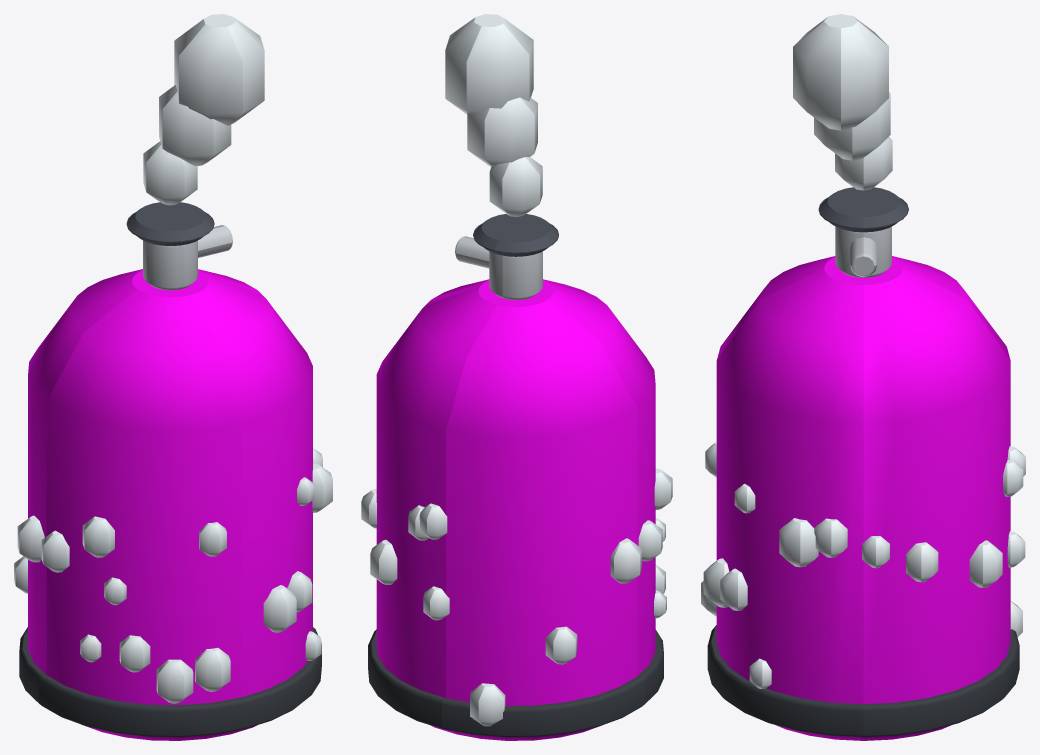
The model's file is objet_azote_liquide.glb.
3 renders of one model, left to right at view 1: azimuth 30°, elevation 25°; view 2: azimuth 150°, elevation 25°; view 3: azimuth 270°, elevation 25°, orthographic. The views are drawn at different scales.
Visible parts, largest first — view 1: bonbonne_teinte.006, bonbonne_givre.002, bonbonne_teinte_sombre.006, bonbonne_composant_clair.006, bonbonne_metal_sci_sombre.002; view 2: bonbonne_teinte.006, bonbonne_givre.002, bonbonne_teinte_sombre.006, bonbonne_composant_clair.006, bonbonne_metal_sci_sombre.002; view 3: bonbonne_teinte.006, bonbonne_givre.002, bonbonne_teinte_sombre.006, bonbonne_metal_sci_sombre.002, bonbonne_composant_clair.006.
Part boxes in pixels (bbox=[...]): bonbonne_teinte.006: bbox=[28, 269, 312, 740]; bonbonne_givre.002: bbox=[14, 14, 332, 703]; bonbonne_teinte_sombre.006: bbox=[19, 627, 321, 737]; bonbonne_composant_clair.006: bbox=[143, 225, 232, 290]; bonbonne_metal_sci_sombre.002: bbox=[126, 202, 214, 245]; bonbonne_teinte.006: bbox=[376, 279, 655, 740]; bonbonne_givre.002: bbox=[361, 14, 672, 726]; bonbonne_teinte_sombre.006: bbox=[368, 629, 663, 737]; bonbonne_composant_clair.006: bbox=[455, 236, 542, 299]; bonbonne_metal_sci_sombre.002: bbox=[473, 214, 558, 256]; bonbonne_teinte.006: bbox=[716, 256, 1010, 740]; bonbonne_givre.002: bbox=[701, 14, 1025, 689]; bonbonne_teinte_sombre.006: bbox=[707, 625, 1019, 737]; bonbonne_metal_sci_sombre.002: bbox=[818, 187, 908, 232]; bonbonne_composant_clair.006: bbox=[835, 226, 891, 277].
Bounding box in the file's own units: 0.1439 × 0.335 × 0.1437.
